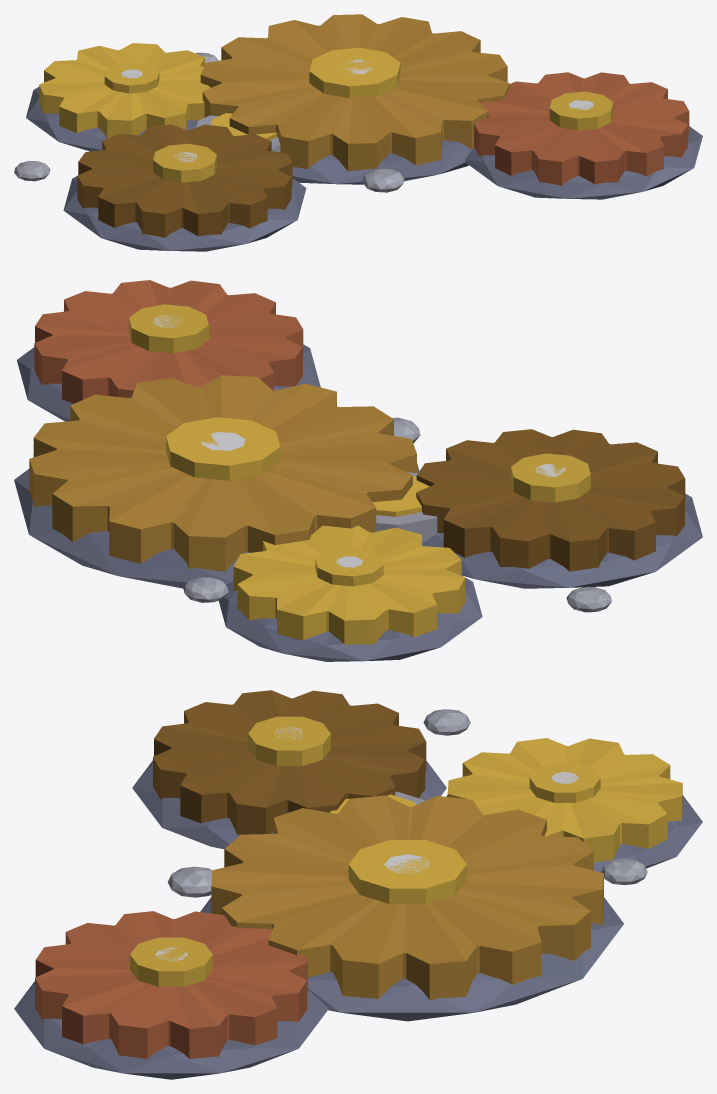
The model's file is Decor_ClockTower_CogGarden.fbx.
The picture shows the model from 3 angles, top to bottom: view 1: azimuth 30°, elevation 25°; view 2: azimuth 150°, elevation 25°; view 3: azimuth 270°, elevation 25°; orthographic projection. The views are drawn at different scales.
Visible parts, largest first — view 1: CogGarden_Body; view 2: CogGarden_Body; view 3: CogGarden_Body.
Boxes of the visible parts, left/top/right/bottom form: CogGarden_Body: left=14, top=14, right=702, bottom=251; CogGarden_Body: left=14, top=280, right=702, bottom=661; CogGarden_Body: left=14, top=690, right=702, bottom=1079.
Size of the model in its own units: 20 by 2.4 by 16.5.
